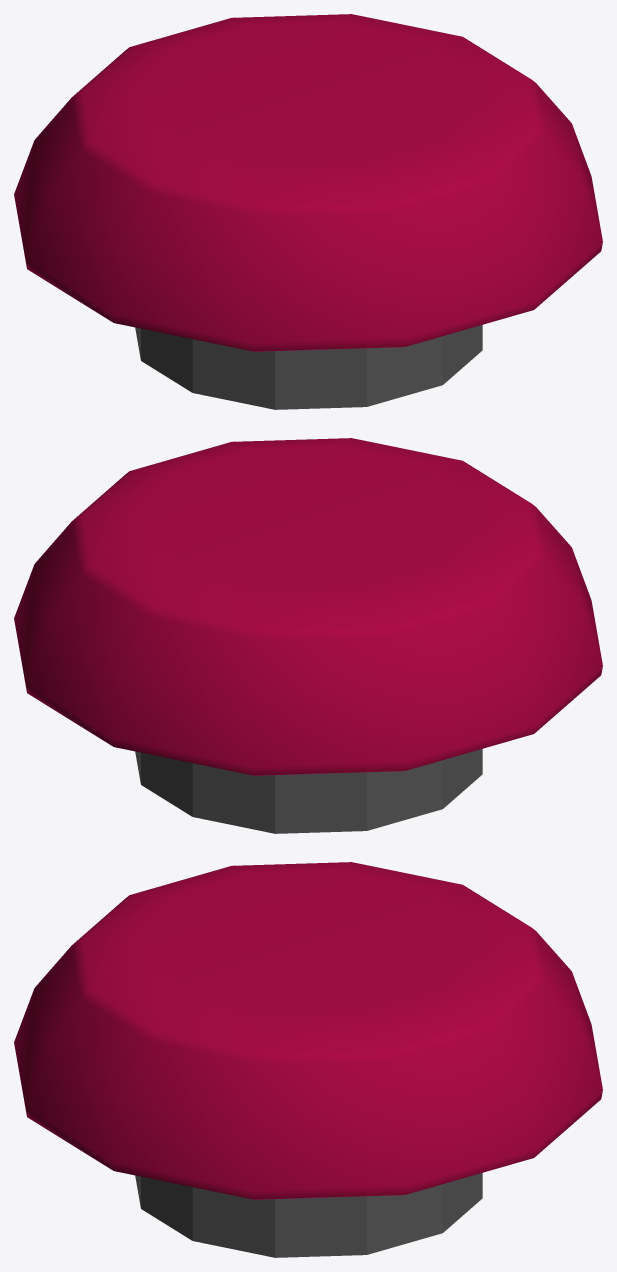
The model's file is Button.fbx.
3 renders of one model, top to bottom at view 1: azimuth 30°, elevation 25°; view 2: azimuth 150°, elevation 25°; view 3: azimuth 270°, elevation 25°, orthographic.
Visible parts, largest first — view 1: Button1_Mesh; view 2: Button1_Mesh; view 3: Button1_Mesh.
Part boxes in pixels (x1=…): Button1_Mesh: x1=14, y1=14, x2=602, y2=409; Button1_Mesh: x1=14, y1=438, x2=602, y2=833; Button1_Mesh: x1=14, y1=862, x2=602, y2=1257.
Size of the model in its own units: 28.2 by 12.89 by 28.2.
